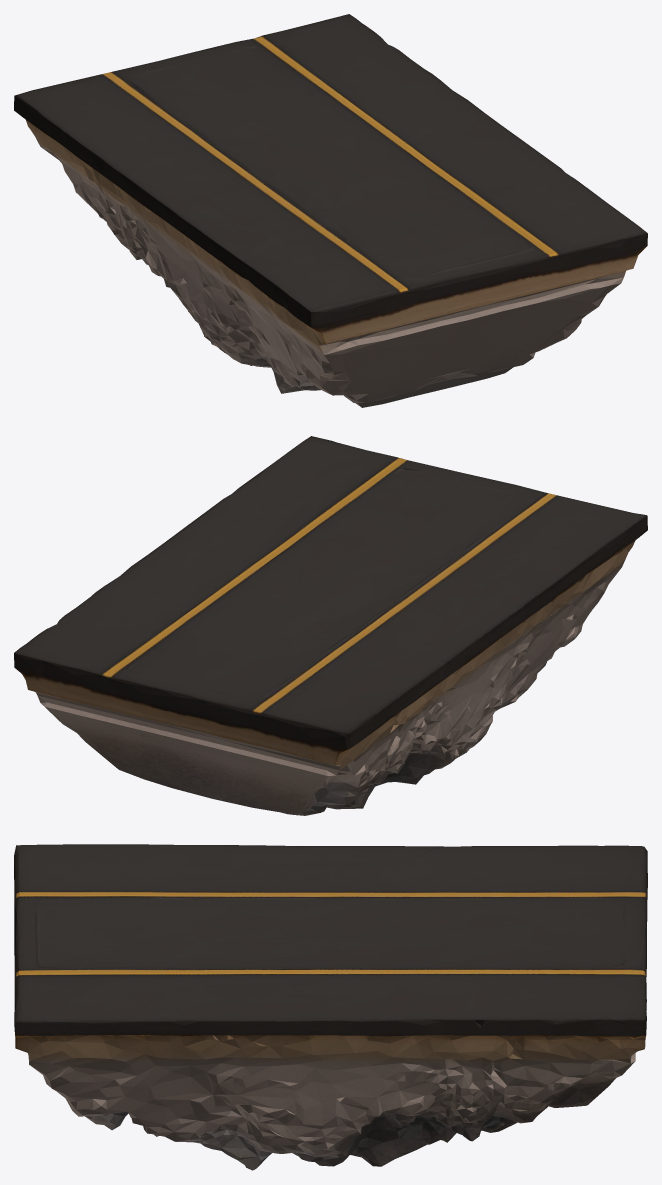
File: road.fbx
3 views of the same model, one above another, from view 1: azimuth 30°, elevation 25°; view 2: azimuth 150°, elevation 25°; view 3: azimuth 270°, elevation 25° (orthographic). The views are drawn at different scales.
Parts seen in each view (by area): view 1: tripo_node_9d519142; view 2: tripo_node_9d519142; view 3: tripo_node_9d519142.
Part boxes in pixels (x1,y1,x2,y2): tripo_node_9d519142: [14, 14, 647, 407]; tripo_node_9d519142: [14, 436, 647, 815]; tripo_node_9d519142: [14, 844, 647, 1170].
Size of the model in its own units: 0.6503 by 0.3672 by 1.
1 material, 1 textured.
